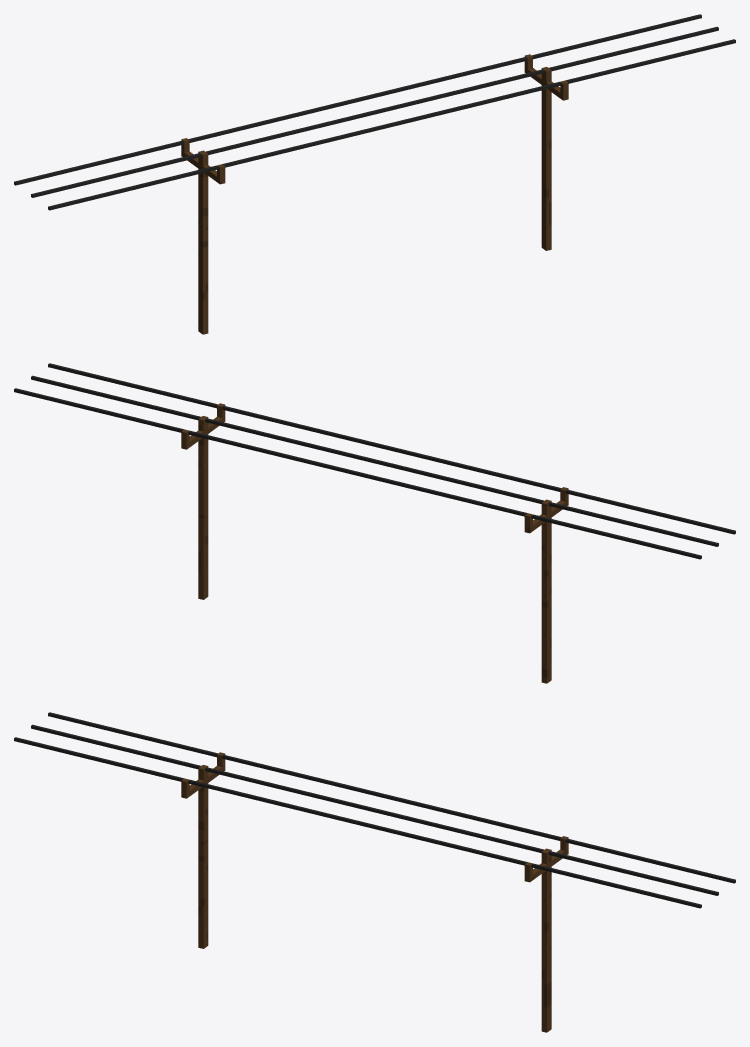
3 renders of one model, top to bottom at view 1: azimuth 30°, elevation 25°; view 2: azimuth 150°, elevation 25°; view 3: azimuth 330°, elevation 25°, orthographic.
Parts seen in each view (by area): view 1: VOX; view 2: VOX; view 3: VOX.
Boxes of the visible parts, <box> form: VOX: <box>14,14,735,334</box>; VOX: <box>14,363,735,683</box>; VOX: <box>14,712,735,1032</box>.
Size of the model in its own units: 0.256 by 0.064 by 0.025.
